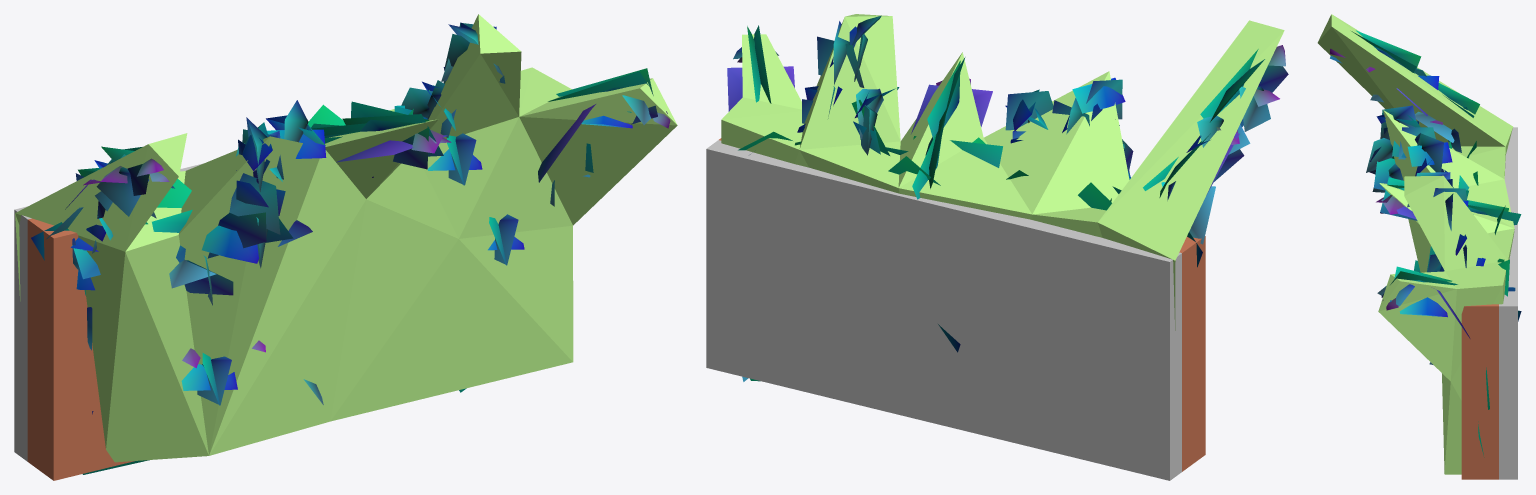
The model's file is tro_bush_2_wall.dae.
3 views of the same model, side by side, from view 1: azimuth 30°, elevation 25°; view 2: azimuth 150°, elevation 25°; view 3: azimuth 270°, elevation 25° (orthographic). The views are drawn at different scales.
Parts seen in each view (by area): view 1: Colmesh-1, tree_oak_bush_a550, tree_oak_bush_a250; view 2: Colmesh-1, tree_oak_bush_a550, tree_oak_bush_a250; view 3: Colmesh-1, tree_oak_bush_a550, tree_oak_bush_a250.
Boxes of the visible parts, <box> form: Colmesh-1: <box>14,14,677,480</box>; tree_oak_bush_a550: <box>31,23,670,474</box>; tree_oak_bush_a250: <box>46,22,648,368</box>; Colmesh-1: <box>706,14,1284,480</box>; tree_oak_bush_a550: <box>737,15,1288,352</box>; tree_oak_bush_a250: <box>727,16,1279,381</box>; Colmesh-1: <box>1317,14,1517,479</box>; tree_oak_bush_a550: <box>1329,30,1521,457</box>; tree_oak_bush_a250: <box>1351,31,1521,338</box>.
Size of the model in its own units: 12.5 by 5.29 by 8.63.
